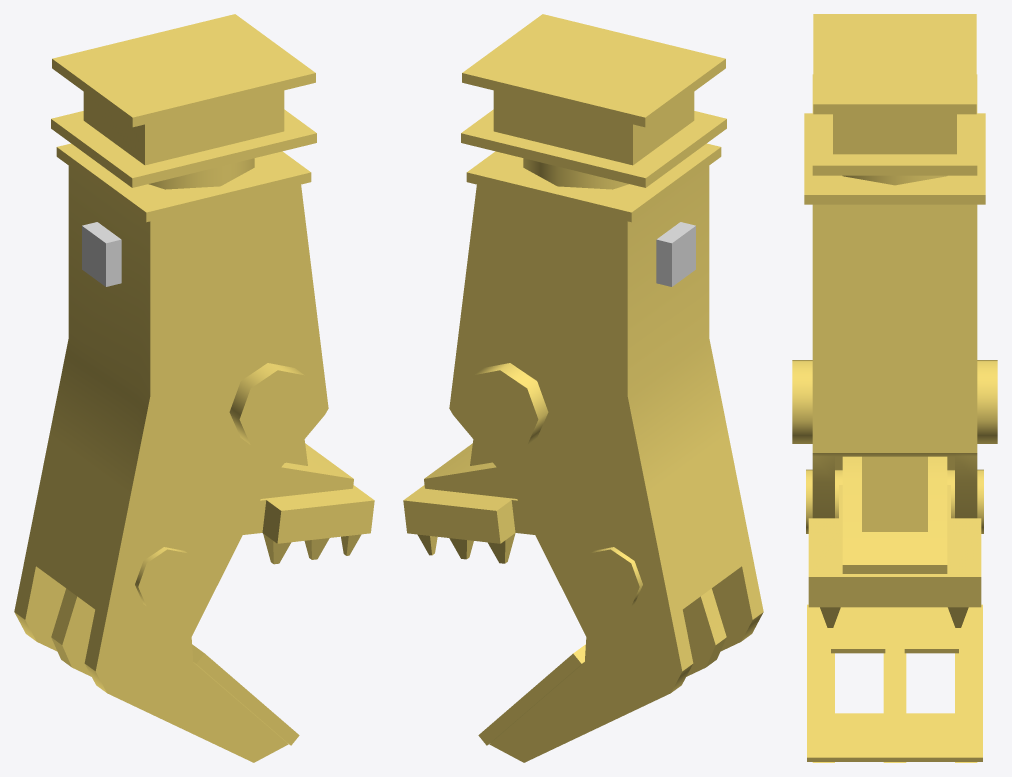
3 views of the same model, side by side, from view 1: azimuth 30°, elevation 25°; view 2: azimuth 150°, elevation 25°; view 3: azimuth 270°, elevation 25° (orthographic).
Parts seen in each view (by area): view 1: BP 2050; view 2: BP 2050; view 3: BP 2050.
Boxes of the visible parts, x1,y1,x2,y2 form: BP 2050: (14, 14, 374, 762); BP 2050: (403, 14, 763, 762); BP 2050: (792, 14, 997, 762).
Bounding box in the file's own units: 96.52 × 224 × 61.16.
